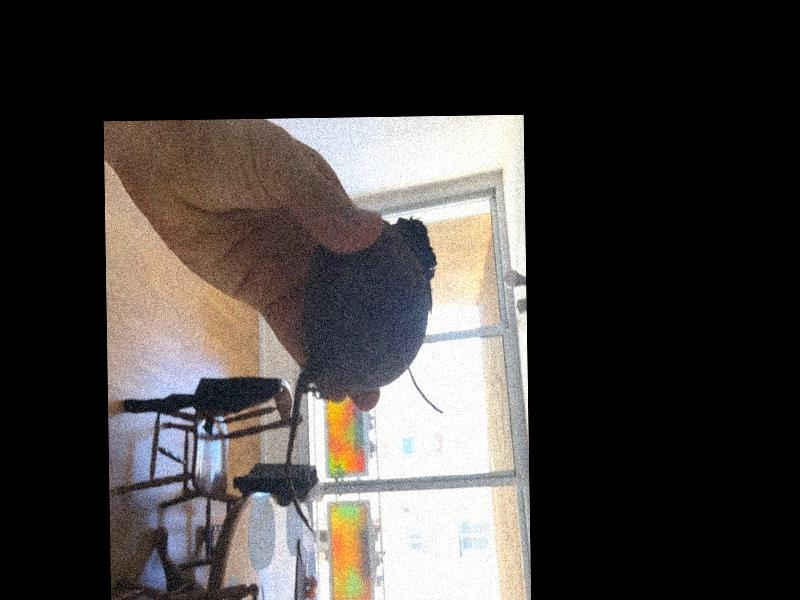Beet: (282, 217, 442, 532)
